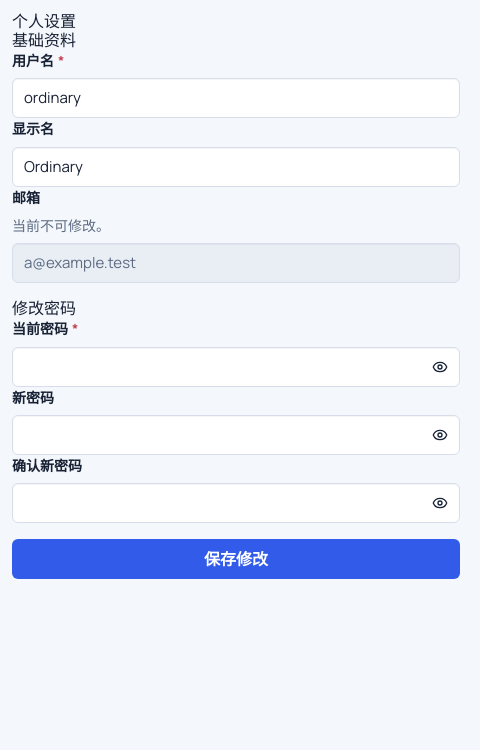
Test: 个人设置提交交互 › 用户名冲突关联到用户名框并保留输入
This screenshot has width=480, height=750.
Replace the text in the field labelled "用户名*" with "taken" at point(236, 98), box [12, 78, 460, 118]
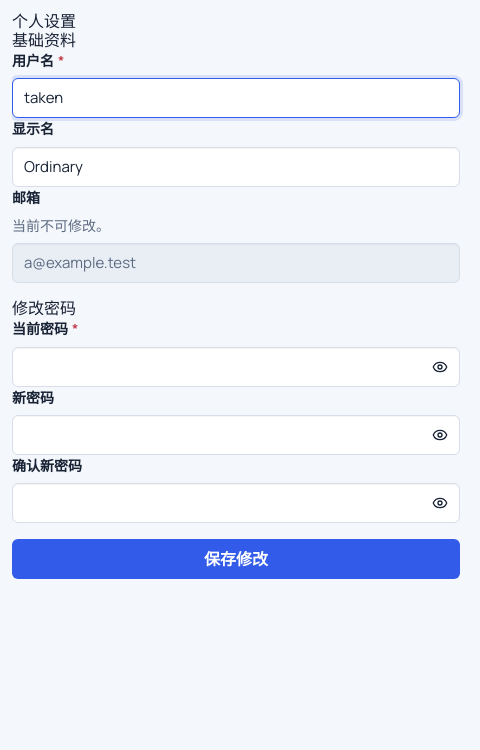
Type "correct-123" into the password field labelled "当前密码*".
click(236, 367); type("correct-123")  # box [12, 347, 460, 387]
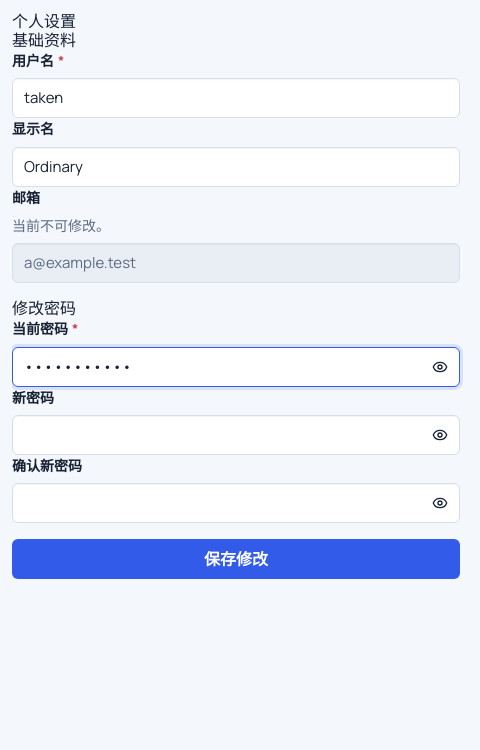
Click the button "保存修改".
click(236, 559)  # box [12, 539, 460, 579]
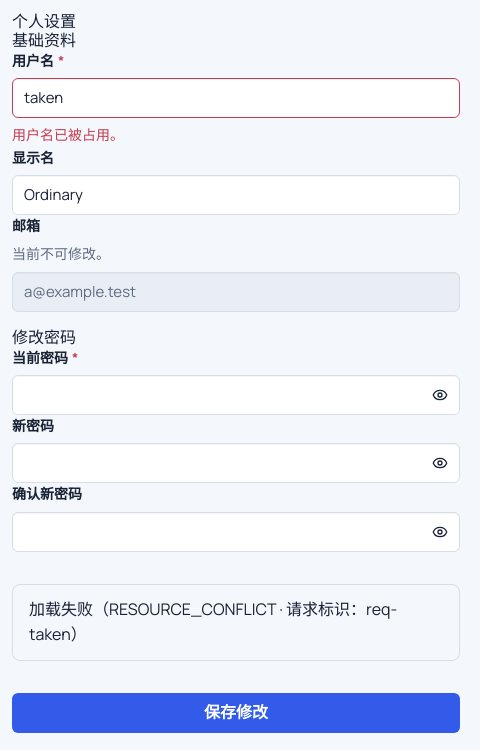
Now the text "用户名已被占用。" is shown, box [12, 125, 124, 144]
Now the password field labelled "当前密码*" is empty, box [12, 375, 460, 415]
